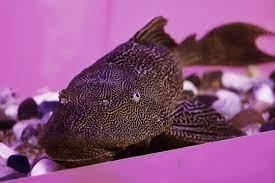Janitor Fish: (42, 12, 275, 167)
